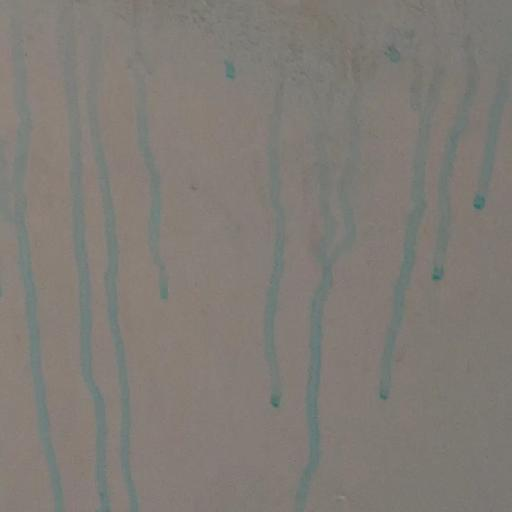stain: (3, 3, 512, 512)
